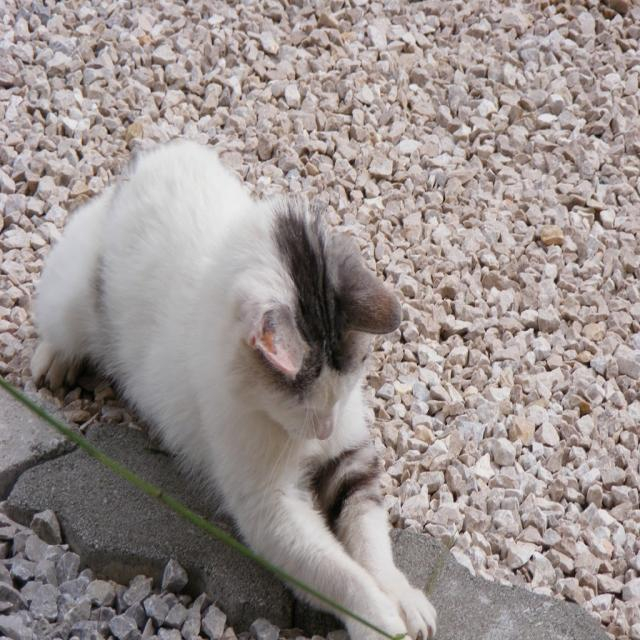Cat: (24, 132, 443, 638)
